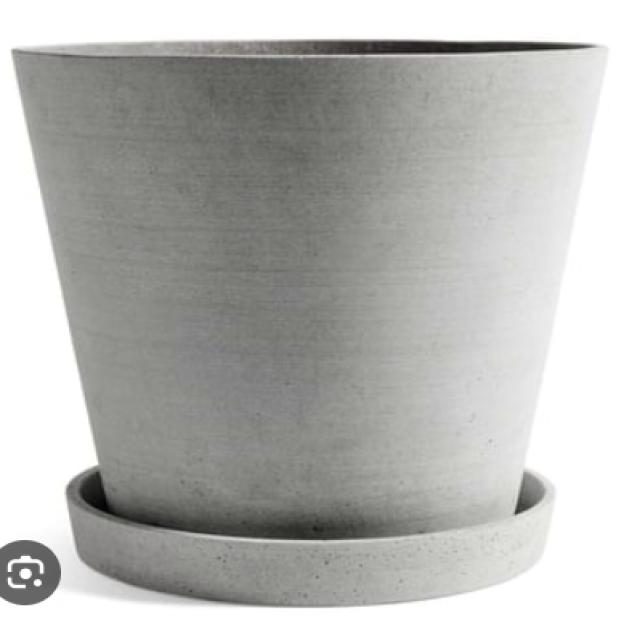Plant Pot: (0, 37, 617, 612)
